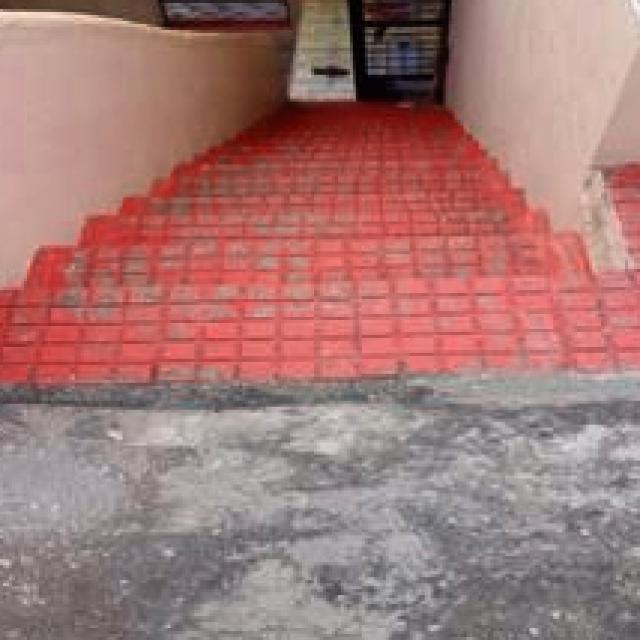downstair: (43, 159, 554, 342)
